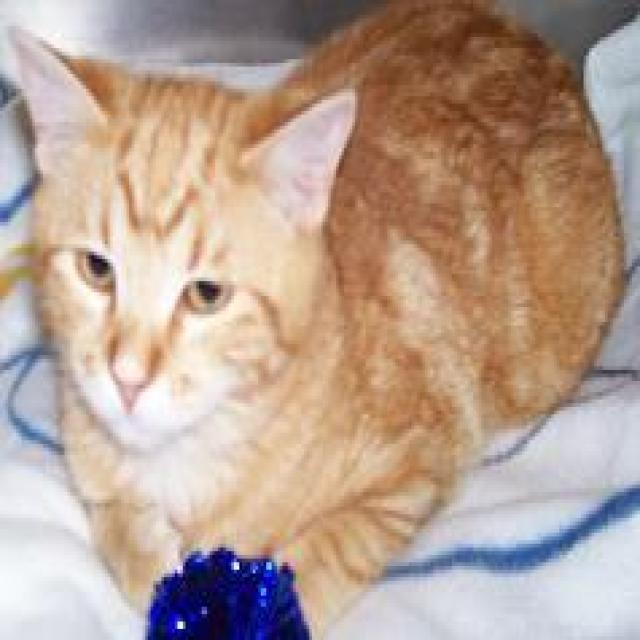cats: (10, 1, 629, 640)
